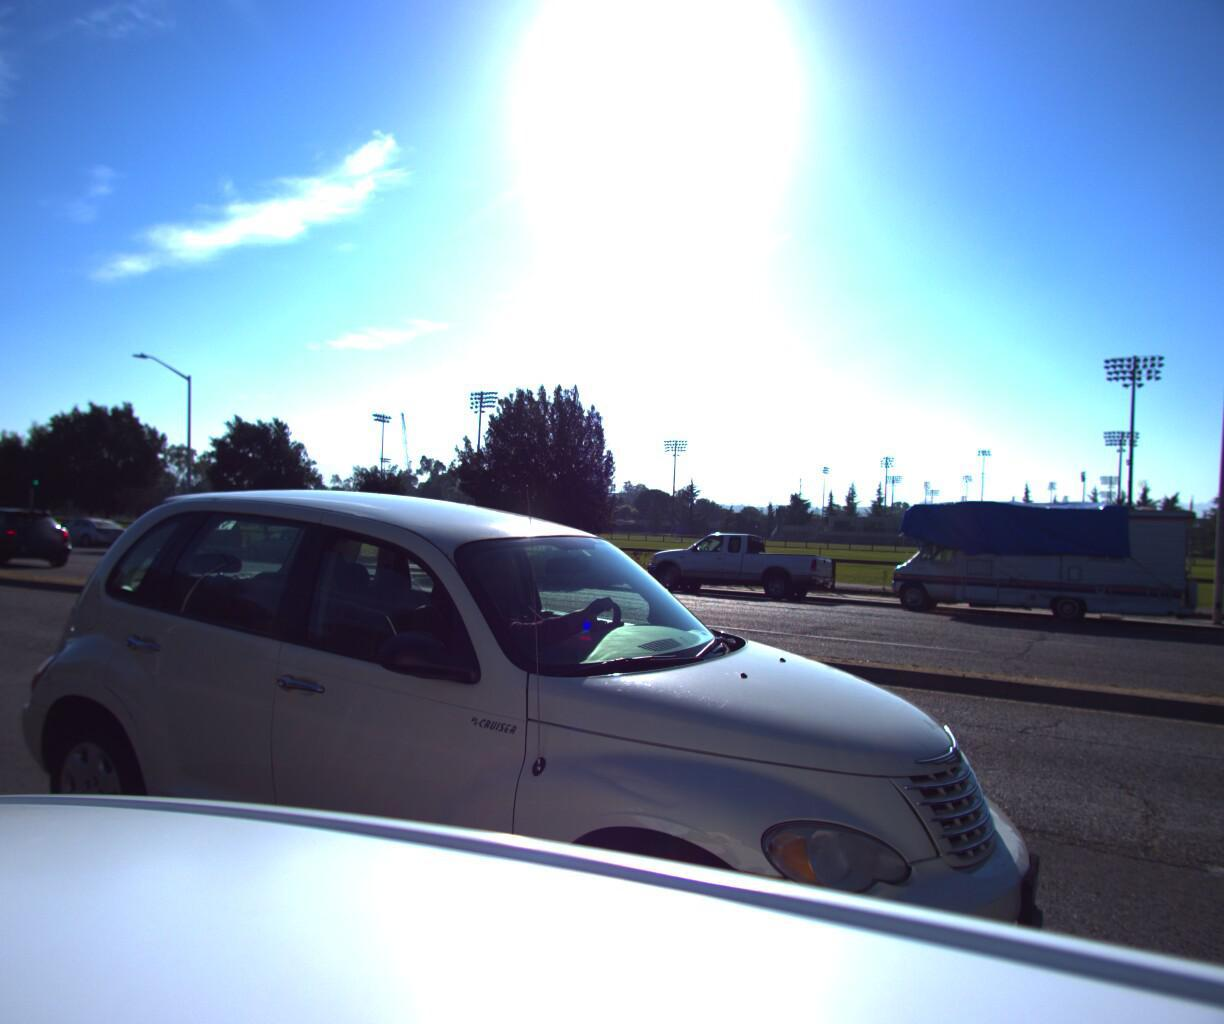car: (0, 450, 1100, 1024), (630, 526, 843, 610), (482, 543, 634, 595), (128, 517, 247, 566), (0, 508, 88, 575), (36, 522, 135, 558)
other_vehicle: (878, 491, 1213, 639)
